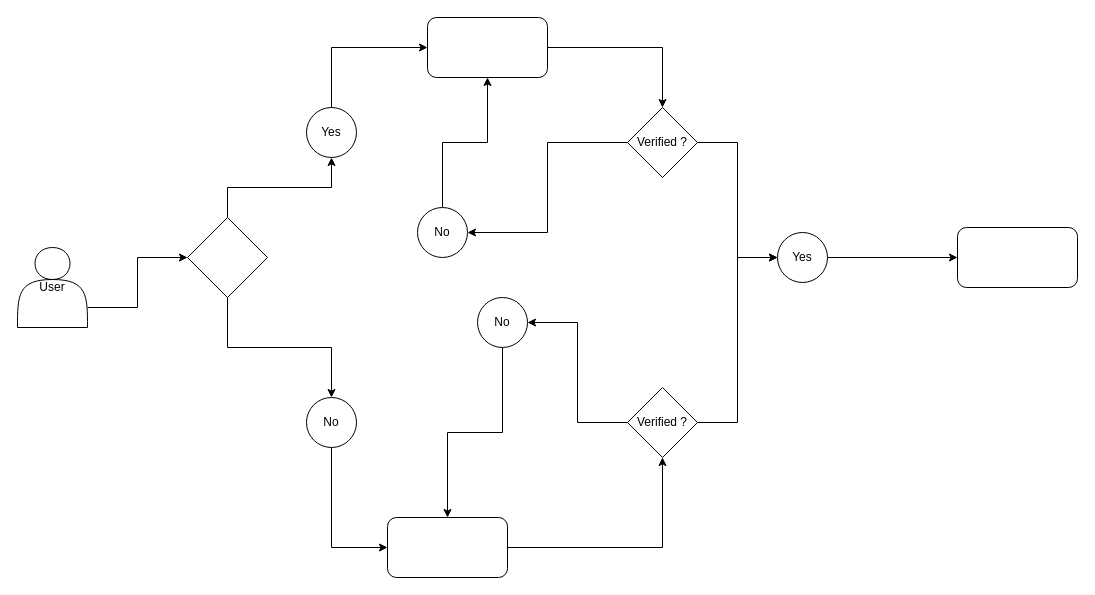
Some shapes in this 1095 by 595 pixel diagram are drawn without their labels. Each missing label, with the box of its shape:
Exists?: (186, 216, 268, 298)
log in: (426, 16, 548, 78)
Onboard: (956, 226, 1078, 288)
Sign Up: (386, 516, 508, 578)
